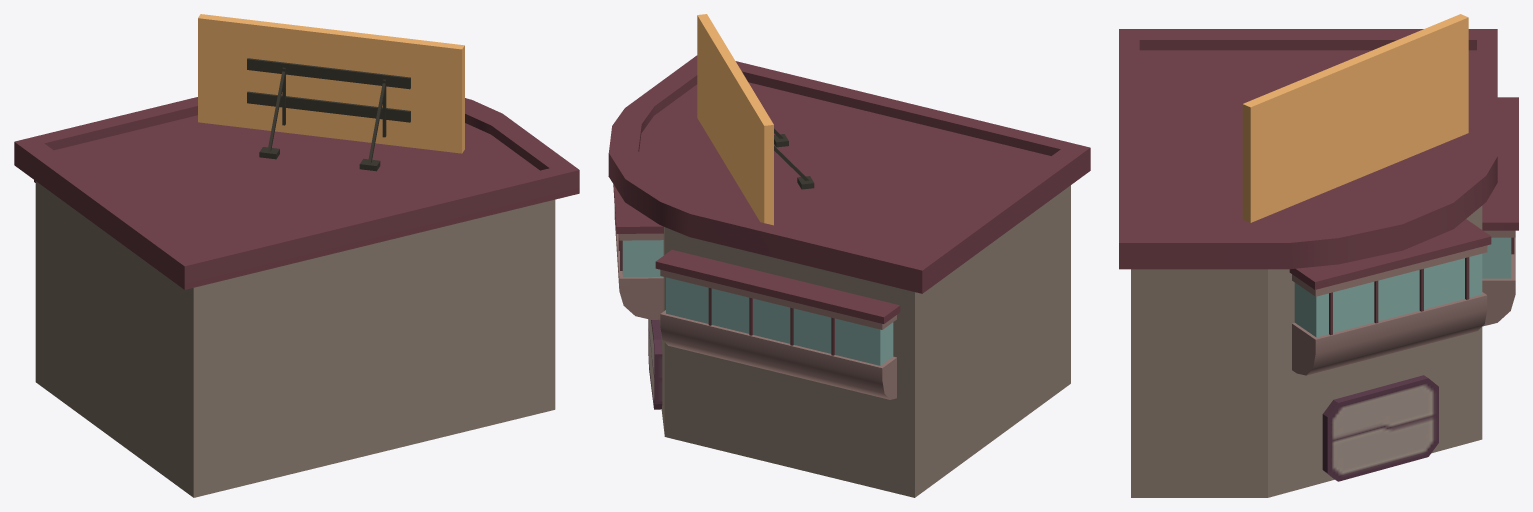
Rendered from West_House_05.fbx.
The picture shows the model from 3 angles, left to right: view 1: azimuth 30°, elevation 25°; view 2: azimuth 150°, elevation 25°; view 3: azimuth 270°, elevation 25°; orthographic projection. The views are drawn at different scales.
Parts seen in each view (by area): view 1: West_House_05; view 2: West_House_05; view 3: West_House_05.
Boxes of the visible parts, left/top/right/bottom form: West_House_05: left=14, top=14, right=579, bottom=497; West_House_05: left=608, top=14, right=1090, bottom=497; West_House_05: left=1119, top=14, right=1518, bottom=497.
Size of the model in its own units: 30.78 by 24.72 by 24.16.
